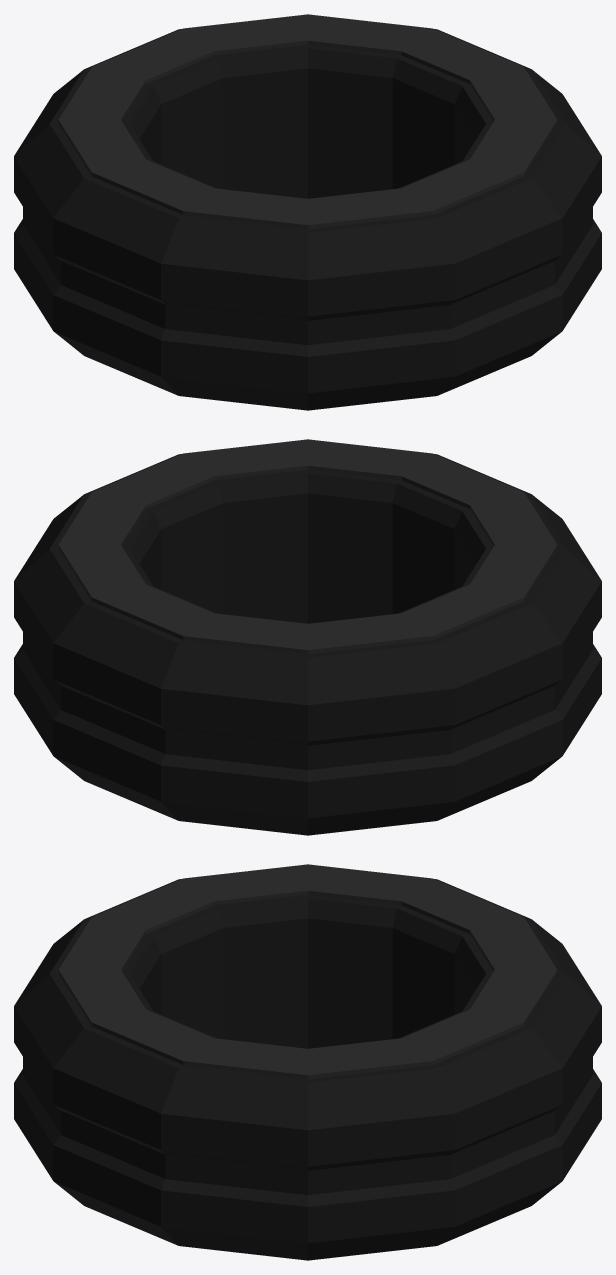
Rendered from pneu.glb.
3 renders of one model, top to bottom at view 1: azimuth 30°, elevation 25°; view 2: azimuth 150°, elevation 25°; view 3: azimuth 270°, elevation 25°, orthographic.
Visible parts, largest first — view 1: tire, sidewalls; view 2: tire, sidewalls; view 3: tire, sidewalls.
Part boxes in pixels (x1,y1,x2,y2): tire: (14,29,601,410); sidewalls: (58,14,557,229); tire: (14,454,601,835); sidewalls: (58,439,557,654); tire: (14,879,601,1260); sidewalls: (58,864,557,1079).
Size of the model in its own units: 0.66 by 0.225 by 0.66.
2 materials, 2 textured.
